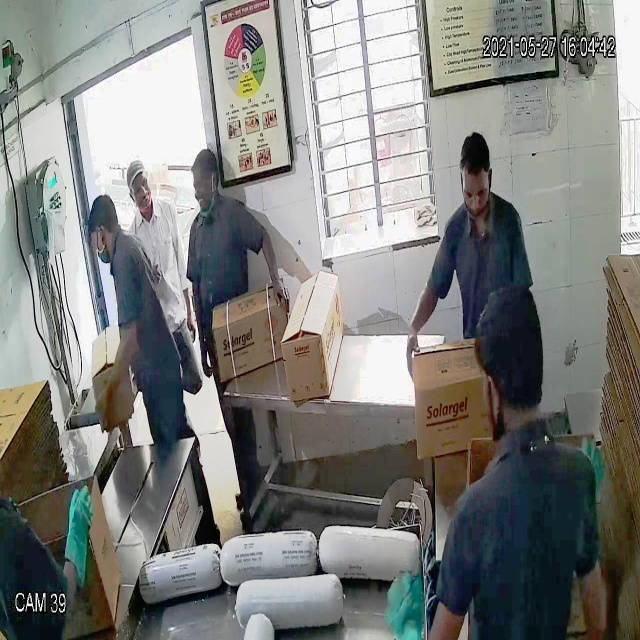Sin_gafas: (453, 172, 496, 211)
